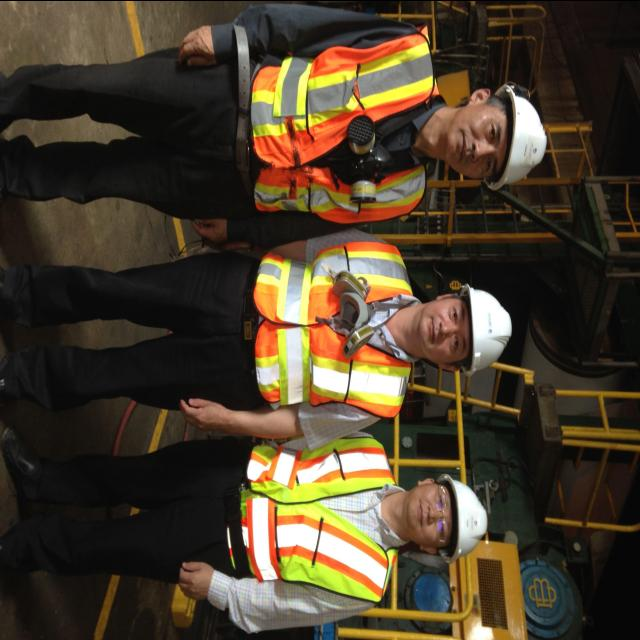helmet: (488, 76, 553, 208), (456, 275, 516, 389), (448, 471, 492, 577)
jacket: (244, 11, 442, 227), (236, 428, 408, 620), (250, 235, 426, 415)
